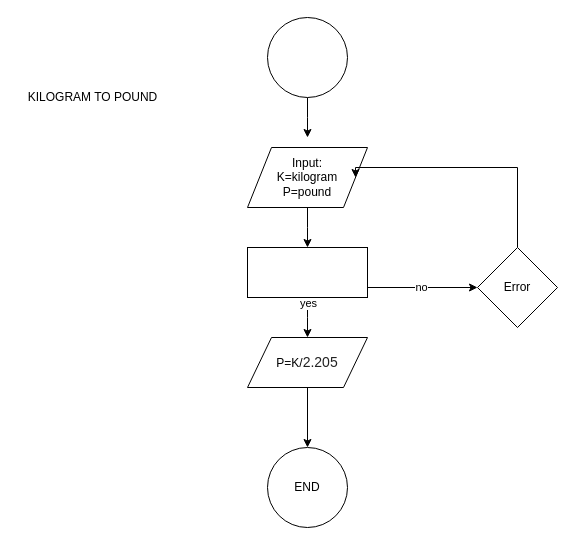
This 575x545 diagram has some shape labels left out. The shapes that lost their labels are listed below. From the top down, each one's box as (x1, y1, x2, y2) in pixels, then its label:
(266, 16, 348, 98): stat
(246, 246, 368, 298): if K>0
